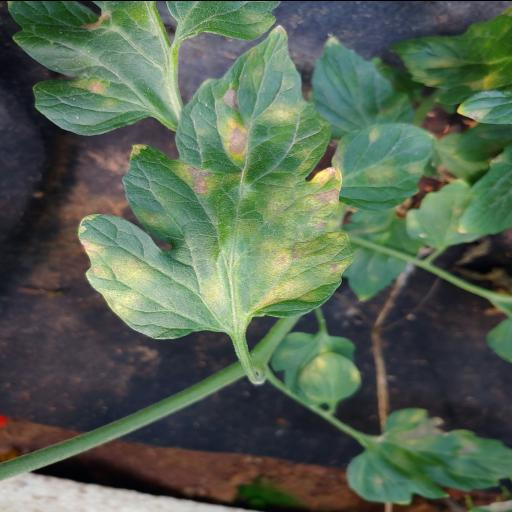Leaf Mold: (76, 24, 356, 340), (330, 122, 440, 212)
